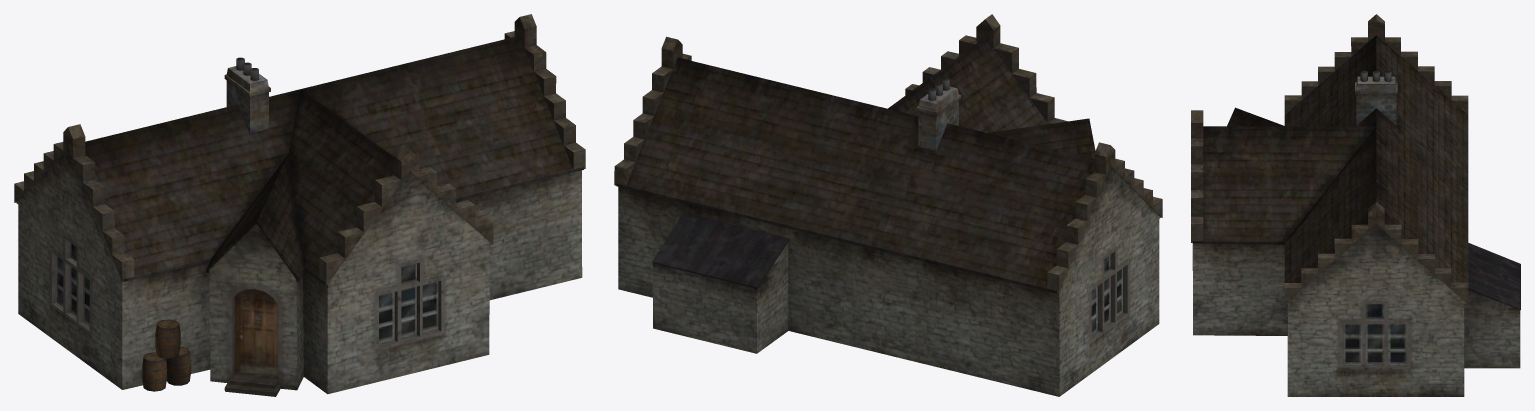
Rendered from house_obj.fbx.
3 views of the same model, side by side, from view 1: azimuth 30°, elevation 25°; view 2: azimuth 150°, elevation 25°; view 3: azimuth 270°, elevation 25° (orthographic). The views are drawn at different scales.
Parts seen in each view (by area): view 1: House; view 2: House; view 3: House.
Boxes of the visible parts, left/top/right/bottom form: House: left=14, top=14, right=585, bottom=396; House: left=614, top=14, right=1162, bottom=396; House: left=1191, top=14, right=1520, bottom=396.
Size of the model in its own units: 1232 by 621 by 894.
